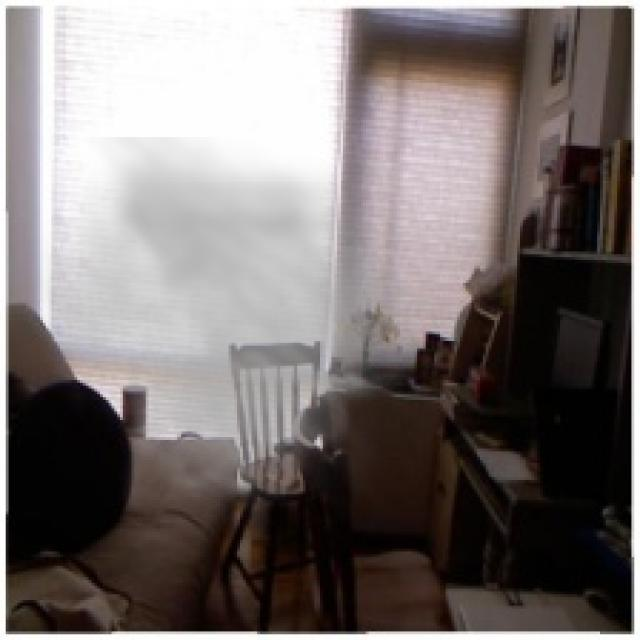Smoke: (19, 137, 432, 546)
